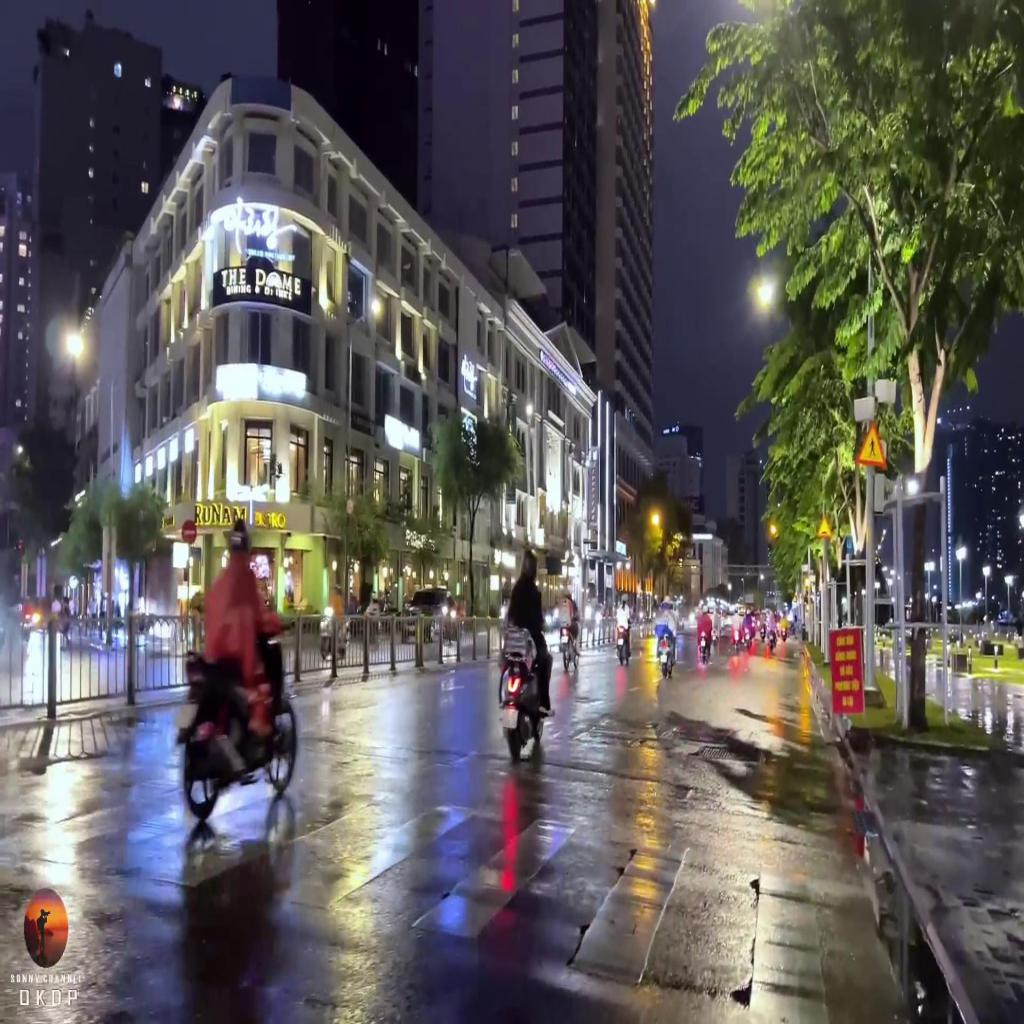cam_xe_di_nguoc_chieu: (181, 521, 197, 544)
chu_y_nguoi_di_bo_cat_ngang: (854, 418, 888, 470)
duong_co_song_map_mo_nhan_tao: (817, 514, 832, 537)
